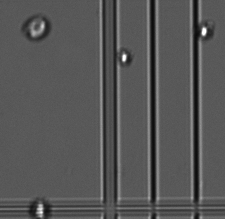Living Cell: (23, 14, 49, 41), (32, 201, 50, 219), (118, 49, 132, 66), (198, 22, 212, 39)
